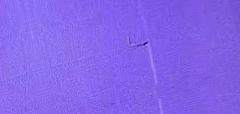snag: (123, 31, 153, 52)
